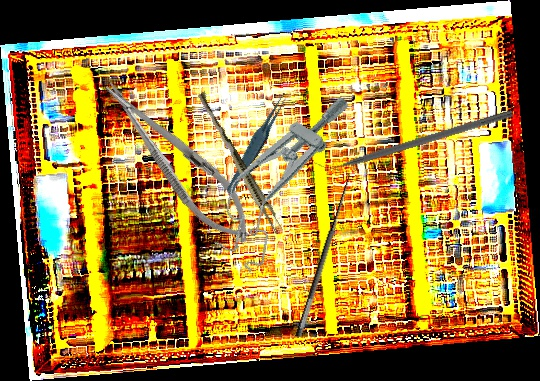Chopper: (312, 99, 514, 177)
Hook Surgical: (282, 168, 357, 339)
Needle Holder: (90, 67, 267, 256)
Speculum: (196, 73, 363, 277)
Tissue Forceps: (192, 91, 287, 235), (218, 90, 297, 196)
